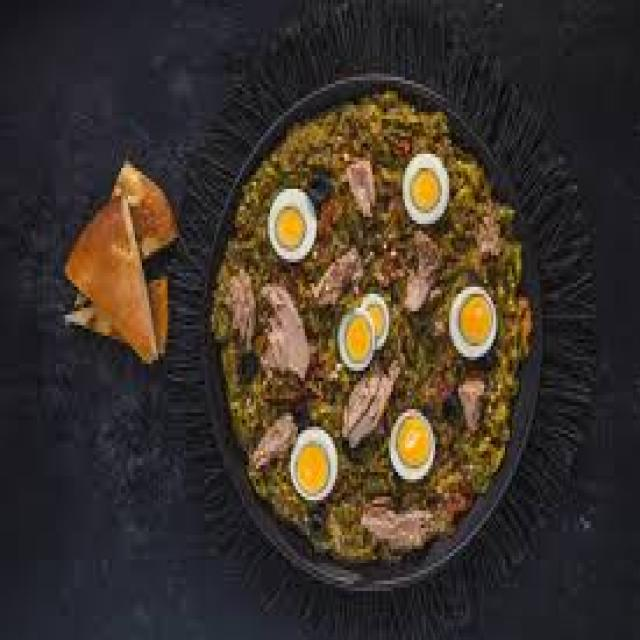Salade mechweya: (211, 90, 533, 561)
